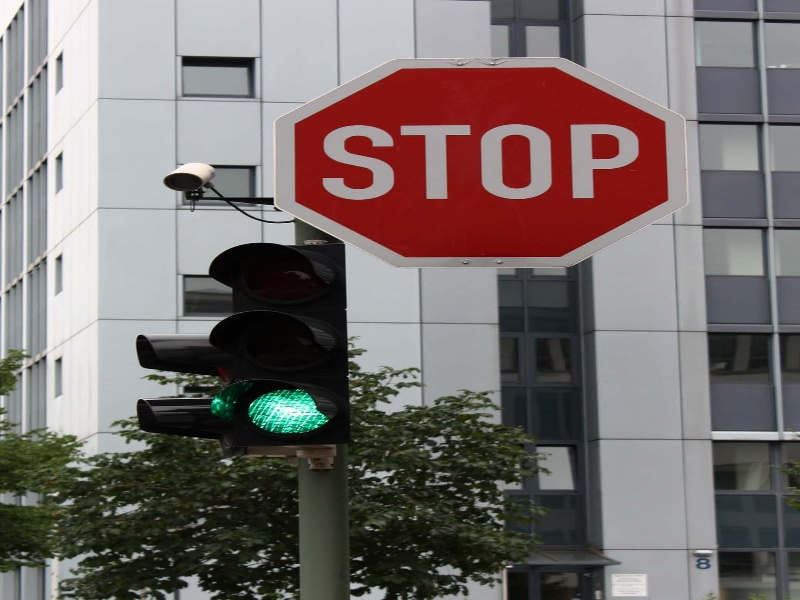stopsign: (281, 55, 688, 268)
